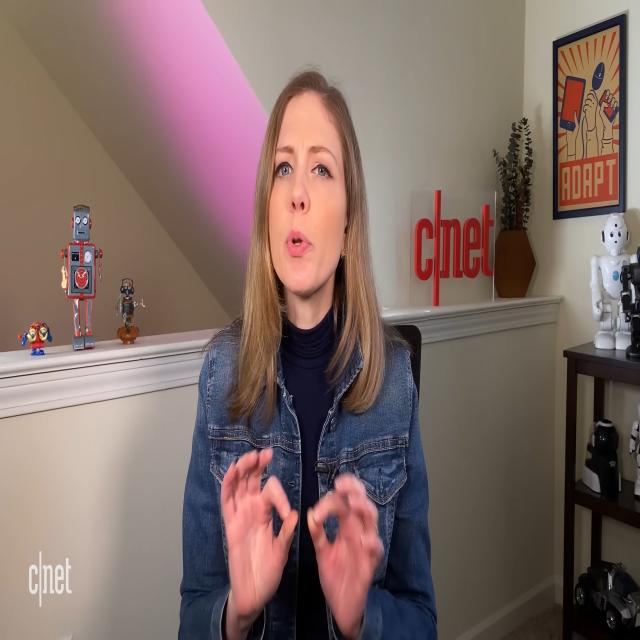dress: (170, 308, 444, 640)
